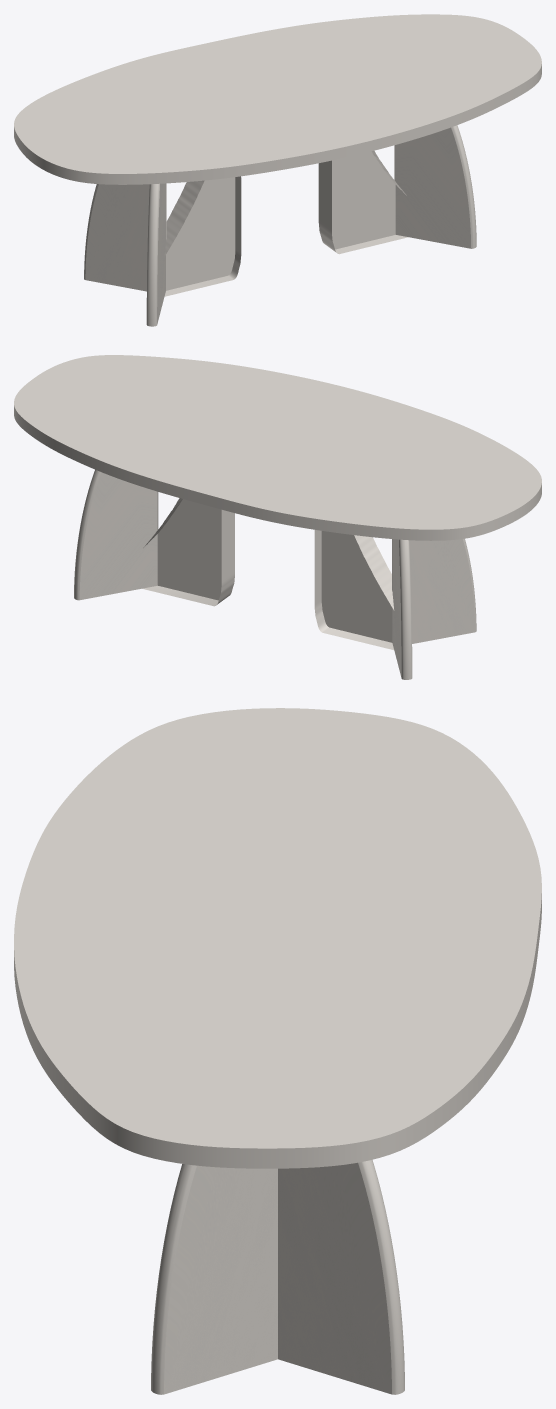
Rendered from pearlwhite_danish_standard_plane.glb.
3 renders of one model, top to bottom at view 1: azimuth 30°, elevation 25°; view 2: azimuth 150°, elevation 25°; view 3: azimuth 270°, elevation 25°, orthographic. The views are drawn at different scales.
Visible parts, largest first — view 1: standard_danish, plane_singleright2, plane_single1, plane_single2, plane_singleleft1, plane_singleright1; view 2: standard_danish, plane_singleleft2, plane_single1, plane_single2, plane_singleright1, plane_singleleft1; view 3: standard_danish, plane_singleleft2, plane_singleright2.
Boxes of the visible parts, x1,y1,x2,y2 form: standard_danish: (14,14,541,184); plane_singleright2: (394,125,476,248); plane_single1: (164,176,241,296); plane_single2: (318,151,407,254); plane_singleleft1: (84,183,166,291); plane_singleright1: (146,183,165,326); standard_danish: (14,355,541,540); plane_singleleft2: (74,469,157,600); plane_single1: (314,530,394,649); plane_single2: (142,498,234,606); plane_singleright1: (392,538,476,643); plane_singleleft1: (392,539,412,679); standard_danish: (14,708,541,1168); plane_singleleft2: (278,1159,404,1394); plane_singleright2: (151,1164,277,1394).
Size of the model in its own units: 7.5 by 2.5 by 3.8.
1 material, 1 textured.
